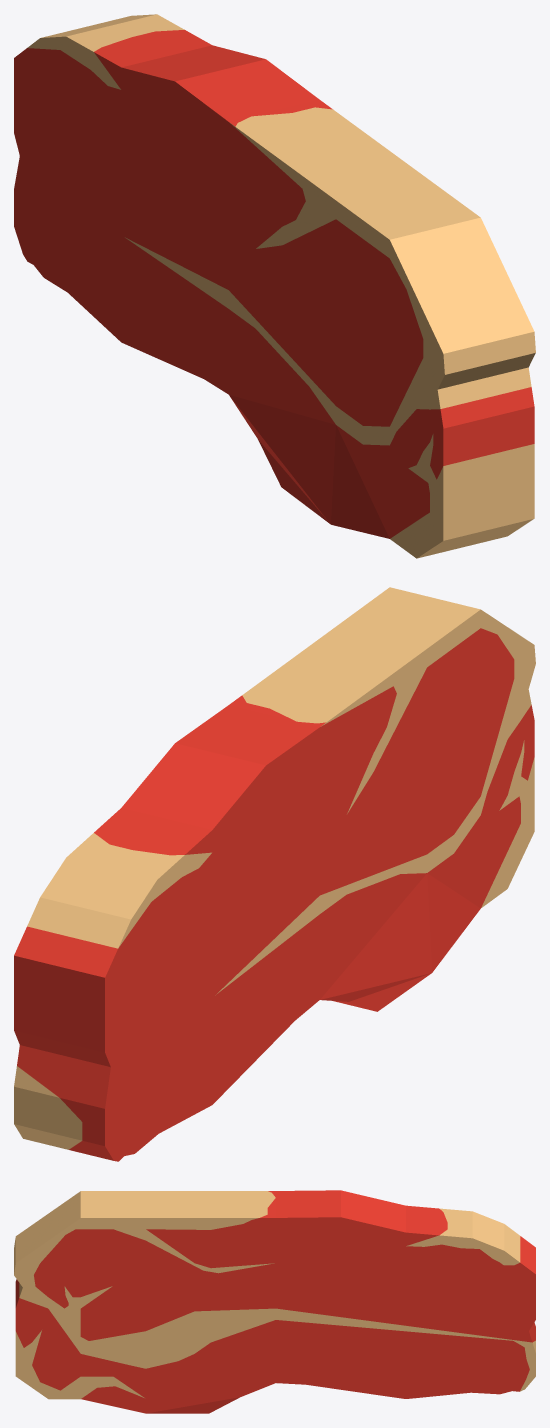
The model's file is Raw Steak.glb.
3 views of the same model, one above another, from view 1: azimuth 30°, elevation 25°; view 2: azimuth 150°, elevation 25°; view 3: azimuth 270°, elevation 25° (orthographic). The views are drawn at different scales.
Parts seen in each view (by area): view 1: group905154054; view 2: group905154054; view 3: group905154054.
Boxes of the visible parts, x1,y1,x2,y2 form: group905154054: (14,14,535,558); group905154054: (14,587,535,1161); group905154054: (14,1190,535,1413).
Bounding box in the file's own units: 0.38 × 1.23 × 2.95.
